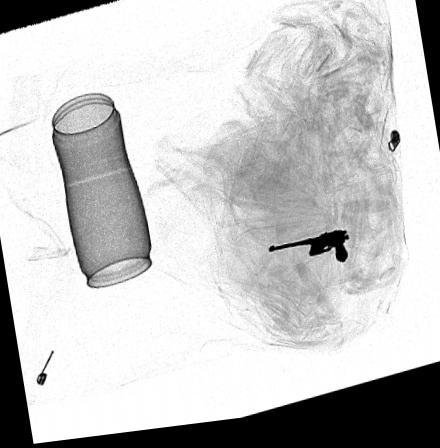Gun: (268, 237, 349, 270)
